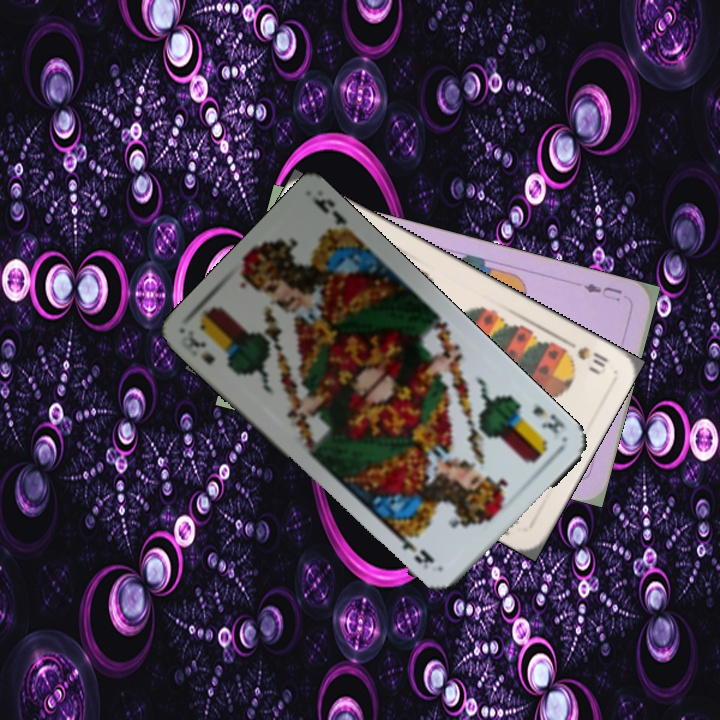EK: (177, 331, 218, 368), (529, 401, 568, 437)
EU: (579, 279, 625, 305)
S10: (559, 335, 611, 377)
